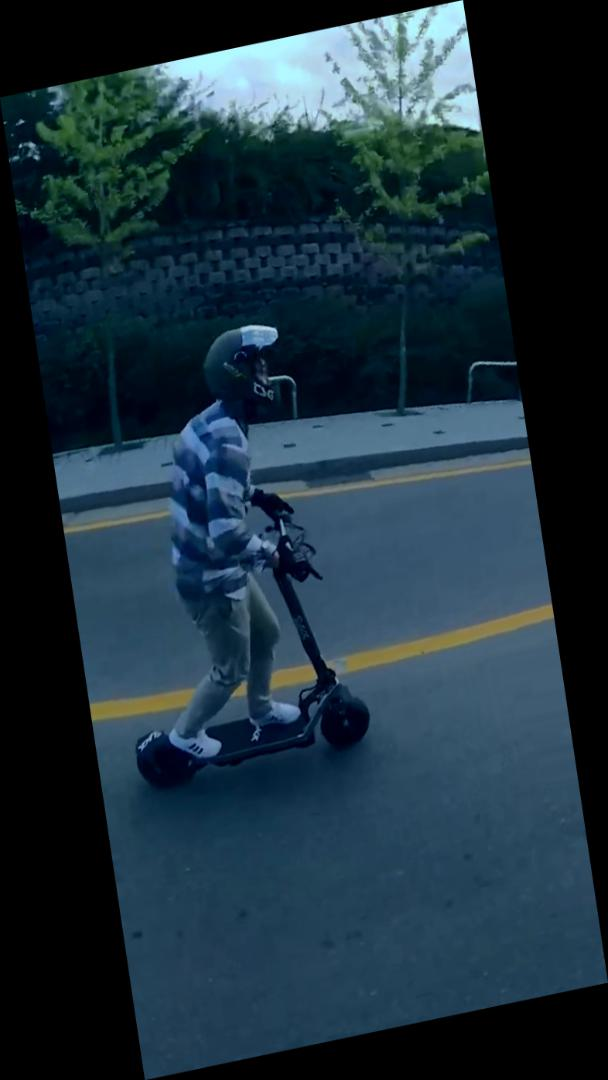helmet: (72, 306, 382, 804)
